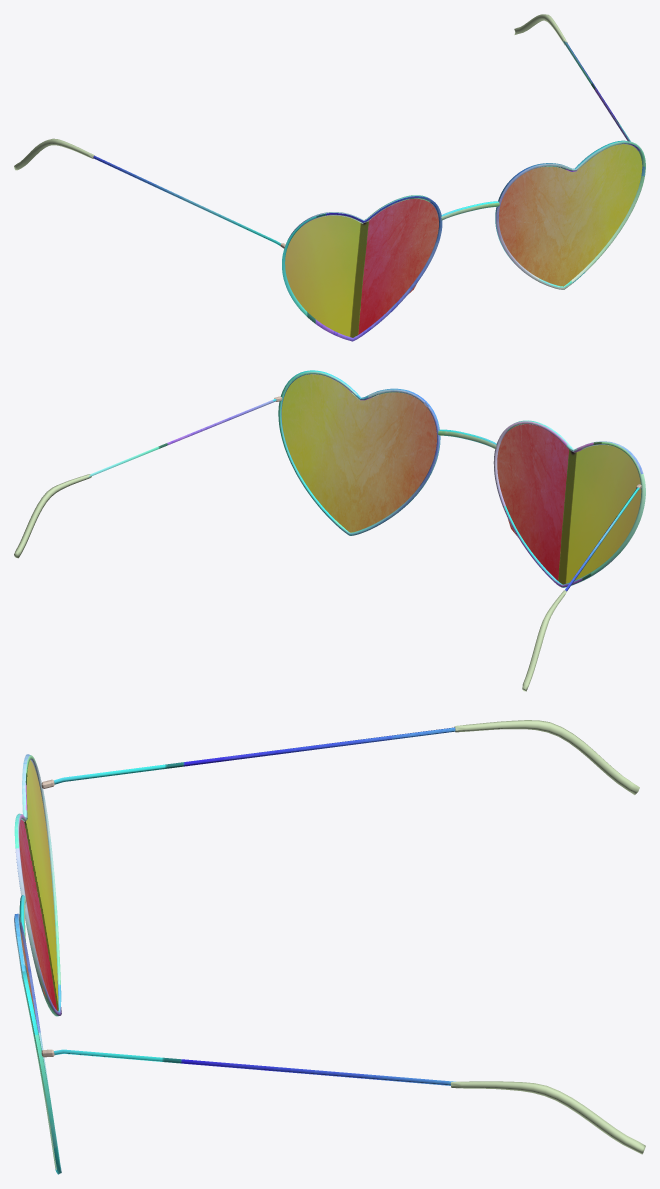
Rendered from Glasses_Boy.fbx.
3 renders of one model, top to bottom at view 1: azimuth 30°, elevation 25°; view 2: azimuth 150°, elevation 25°; view 3: azimuth 270°, elevation 25°, orthographic. The views are drawn at different scales.
Parts seen in each view (by area): view 1: Glasses1; view 2: Glasses1; view 3: Glasses1.
Part boxes in pixels (<box>): Glasses1: <box>14,14,645,341</box>; Glasses1: <box>14,370,645,691</box>; Glasses1: <box>14,720,645,1174</box>.
Size of the model in its own units: 40.27 by 11.05 by 28.19.
